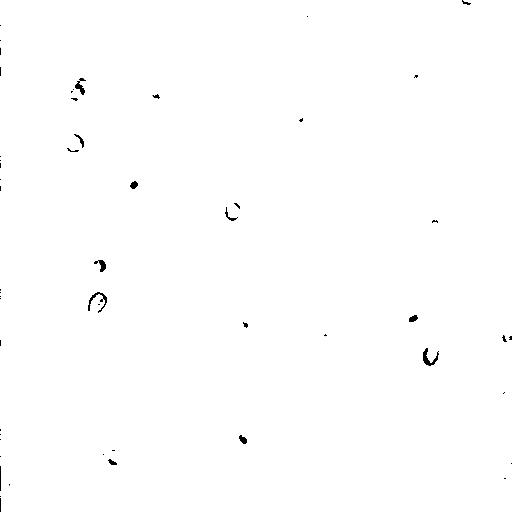micro-algae: (160, 0, 257, 91), (195, 168, 285, 259), (385, 259, 457, 328), (260, 0, 337, 62), (369, 1, 428, 56), (485, 243, 512, 309), (240, 4, 277, 47), (303, 257, 339, 300), (219, 273, 256, 314), (405, 64, 439, 97), (57, 76, 93, 107), (101, 441, 133, 473), (119, 169, 146, 201), (288, 97, 315, 129), (227, 424, 257, 451), (46, 247, 72, 277), (491, 457, 511, 493), (2, 463, 27, 491), (416, 114, 441, 141), (247, 259, 272, 285), (225, 86, 249, 111), (399, 303, 423, 328), (317, 317, 341, 341), (495, 379, 511, 415), (85, 290, 109, 314), (62, 133, 87, 155), (299, 7, 322, 30), (420, 343, 441, 367), (235, 316, 258, 336), (429, 215, 451, 235), (89, 253, 108, 275), (225, 201, 243, 221), (501, 321, 512, 344), (459, 1, 478, 7)
